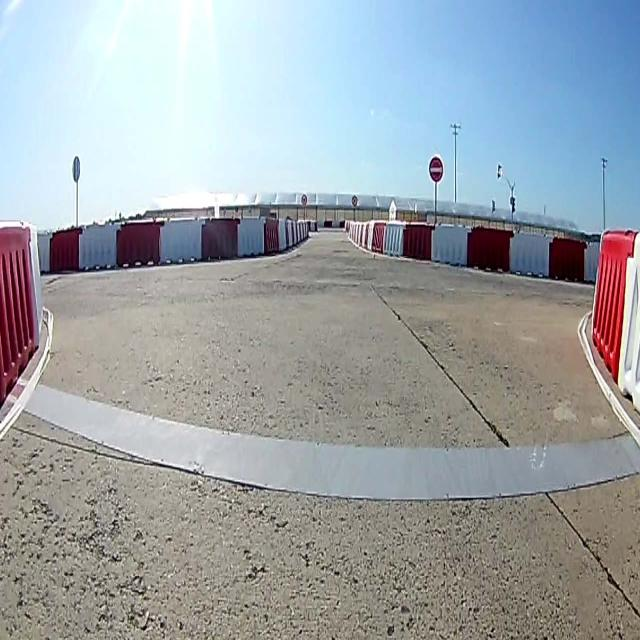girisyok: (428, 153, 446, 182)
